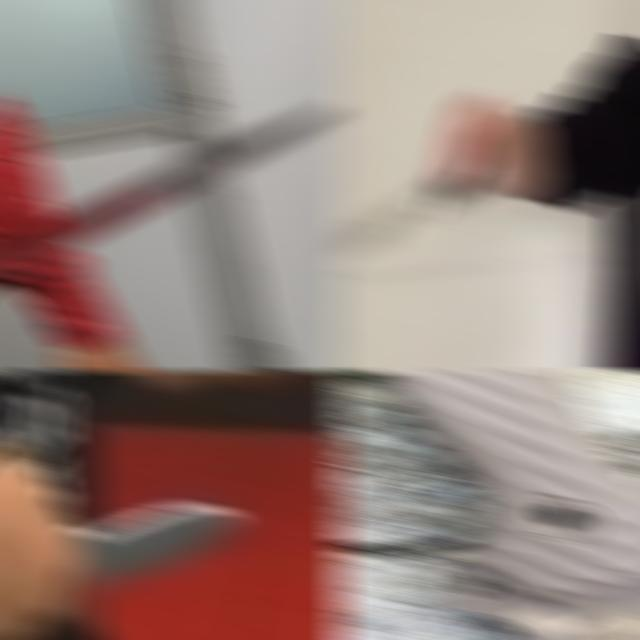Knife: (0, 102, 346, 279), (64, 502, 242, 590)
Knife_Handle: (0, 475, 262, 640), (332, 85, 514, 269)
